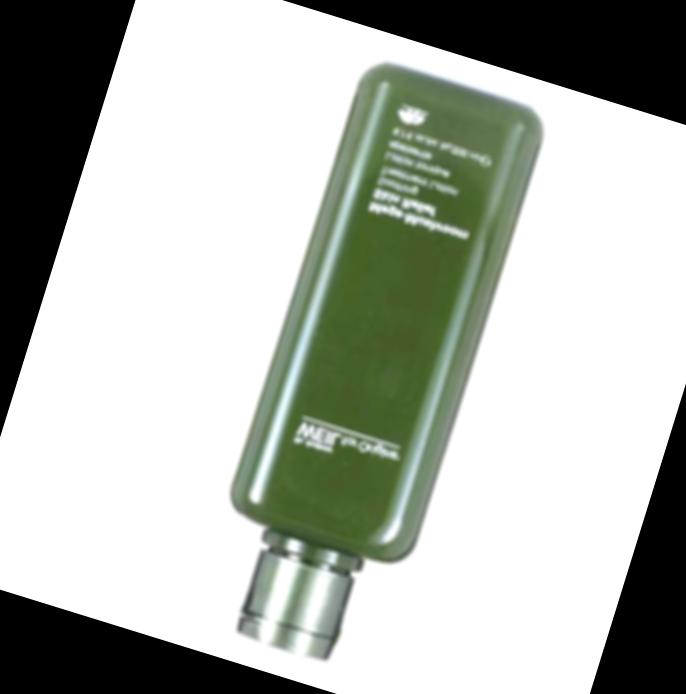cosmetic: (185, 50, 554, 685)
